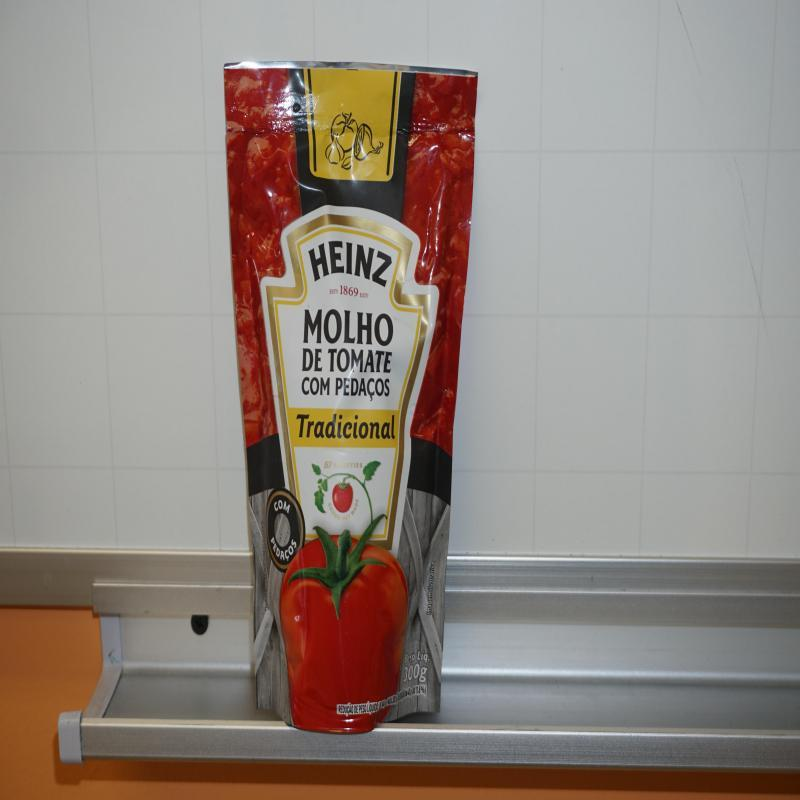TomatoSauce: (224, 63, 479, 738)
